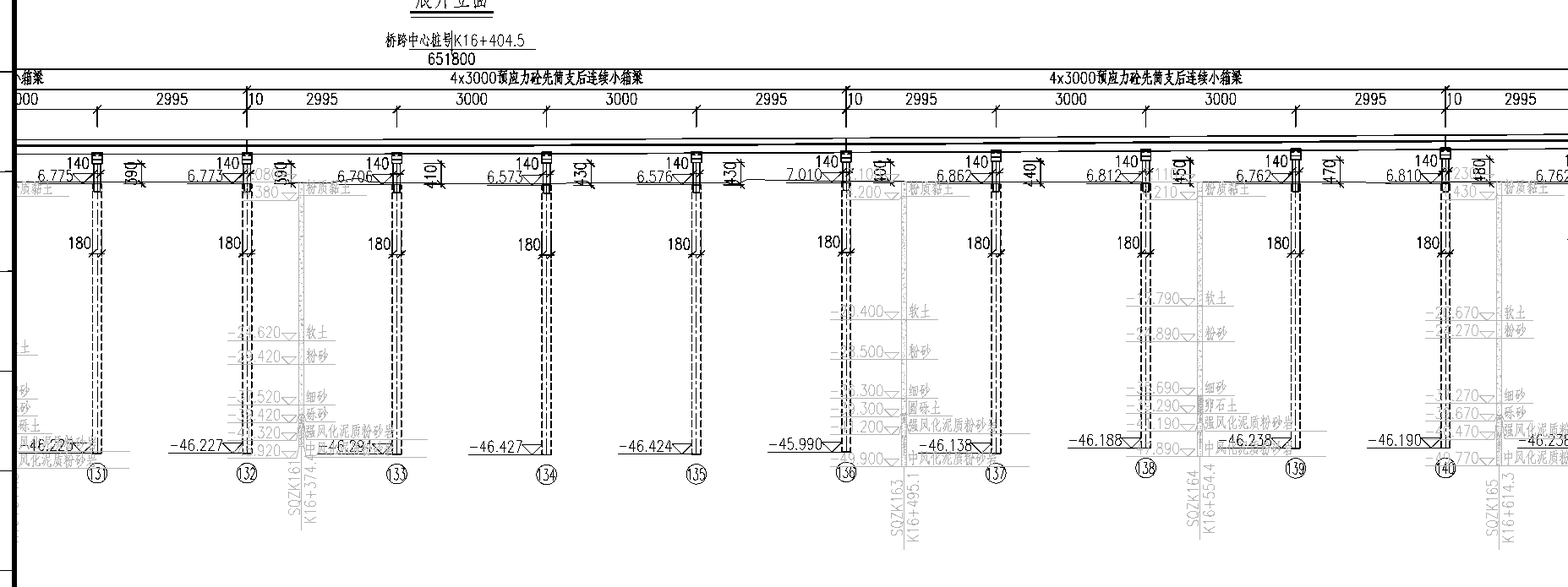C: (610, 140, 718, 494), (763, 144, 871, 494), (1062, 141, 1170, 487), (465, 144, 570, 496), (166, 144, 270, 494), (1363, 141, 1468, 487), (315, 144, 418, 493), (917, 142, 1019, 493), (1216, 141, 1315, 487), (22, 144, 118, 493)
